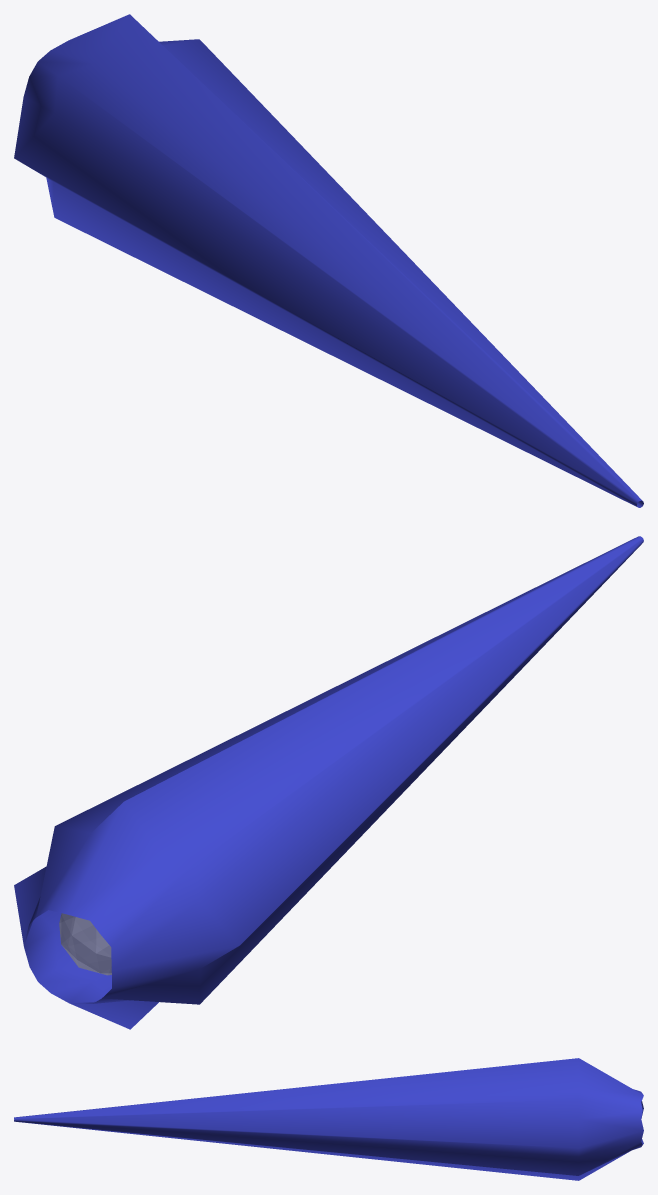
Rendered from estelaNaveR.obj.
3 renders of one model, top to bottom at view 1: azimuth 30°, elevation 25°; view 2: azimuth 150°, elevation 25°; view 3: azimuth 270°, elevation 25°, orthographic. The views are drawn at different scales.
Visible parts, largest first — view 1: starFighter.001_Star_Fighter_Fire; view 2: starFighter.001_Star_Fighter_Fire, starFighter.001_Shield_2; view 3: starFighter.001_Star_Fighter_Fire.
Boxes of the visible parts, <box> form: starFighter.001_Star_Fighter_Fire: <box>14,14,643,507</box>; starFighter.001_Star_Fighter_Fire: <box>14,536,643,1029</box>; starFighter.001_Shield_2: <box>59,913,111,975</box>; starFighter.001_Star_Fighter_Fire: <box>14,1058,643,1180</box>.
Size of the model in its own units: 32.16 by 30.86 by 141.
